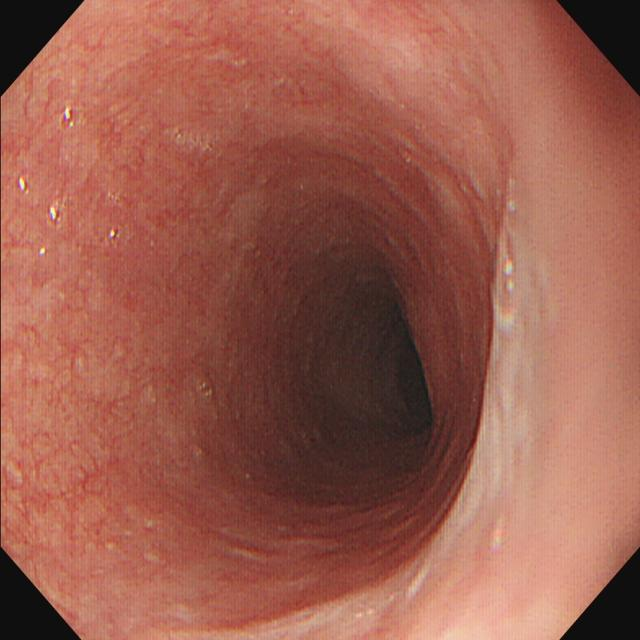E: (284, 271, 434, 472)
T: (492, 185, 528, 333), (171, 127, 219, 158), (54, 102, 85, 135), (47, 201, 70, 230), (108, 225, 128, 255), (16, 175, 36, 202)
